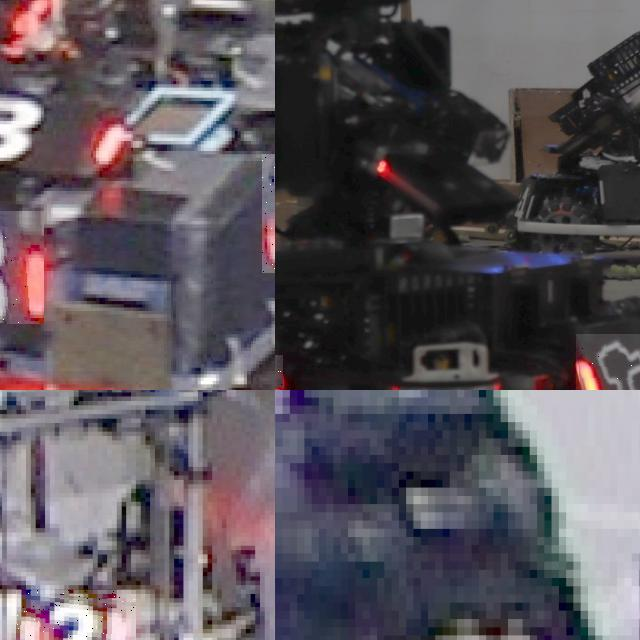R2: (16, 589, 135, 640)
R3: (0, 210, 43, 324), (262, 154, 275, 274)
Rs: (576, 333, 640, 390)
